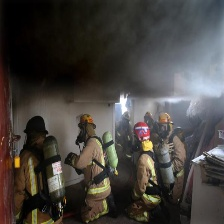smoke: (12, 1, 221, 95)
